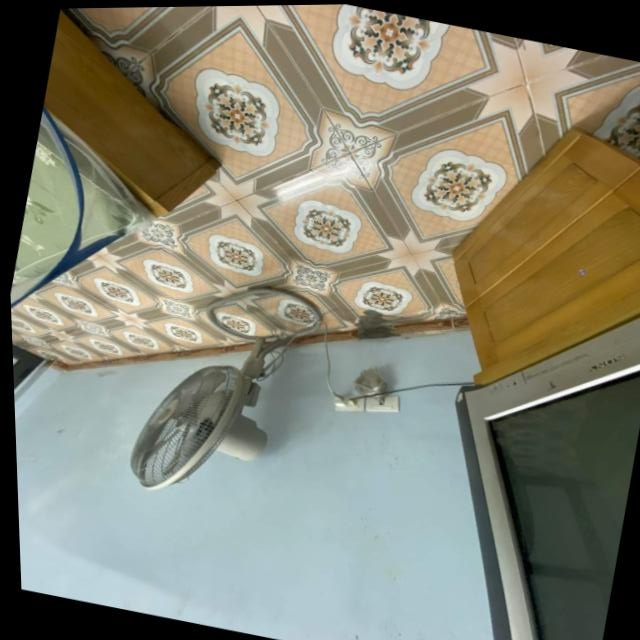outlet: (364, 388, 404, 417), (332, 389, 367, 415)
